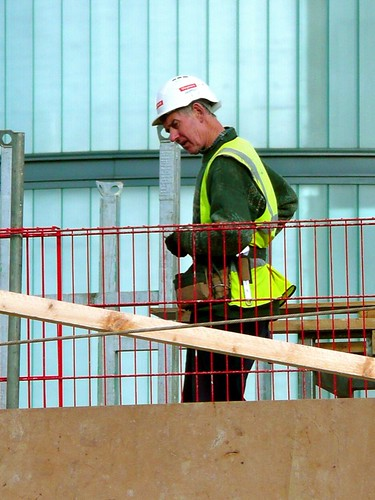person hardhat: (149, 72, 304, 399)
